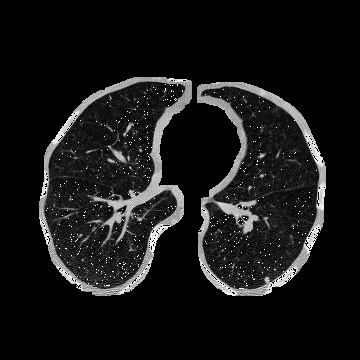PN: (263, 277, 269, 283)
